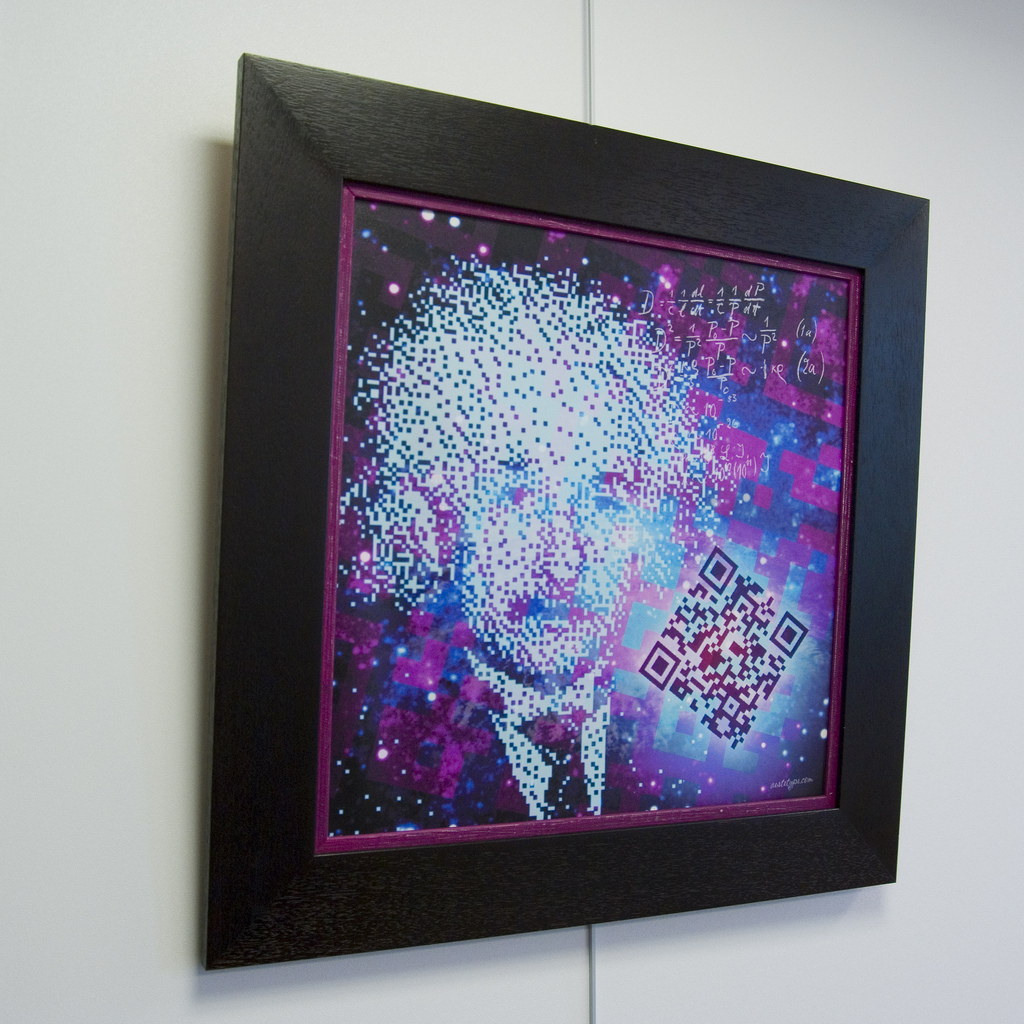QR-CODE: (638, 545, 808, 752)
